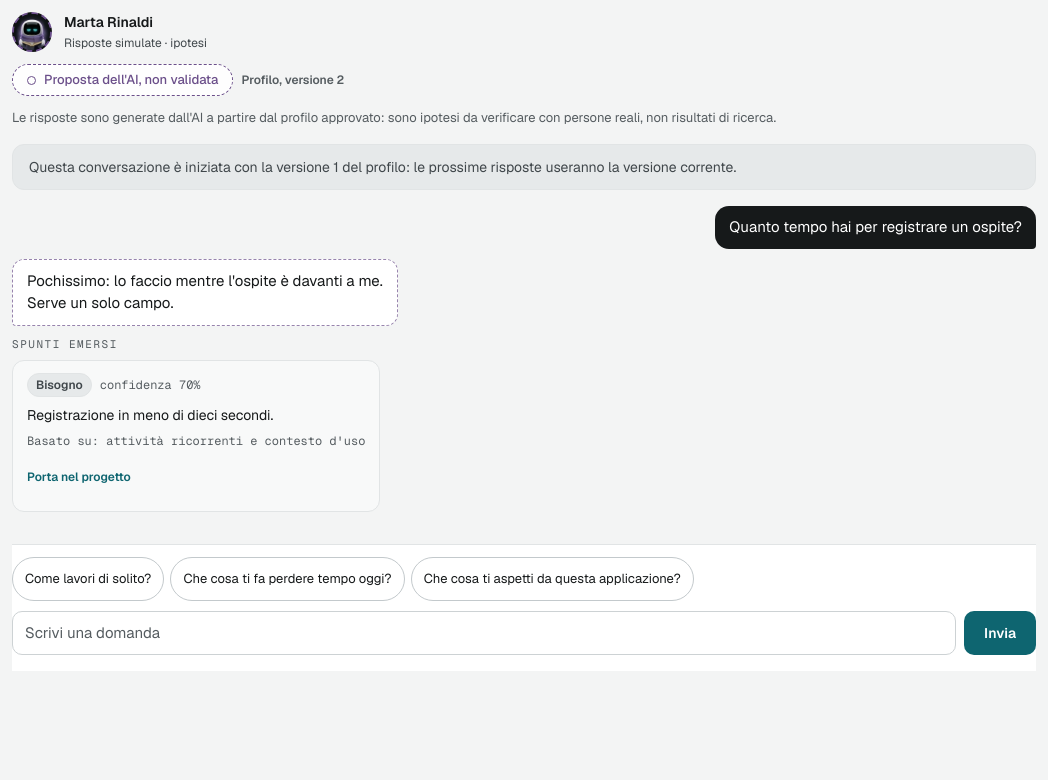
Test: twin chat panel › starts a new conversation with the new version of the twin at the first question
Check: the text with test id "twin-chat-stale" shows "versione 1", box [29,158,736,176]
Check: the list item with test id "twin-chat-turn" shows "Quanto tempo hai per registrare un ospite?", box [729,217,1022,236]
Type "E adesso?" into the text box with test id "twin-chat-question" at x=484, y=633, box [12,610,956,655]
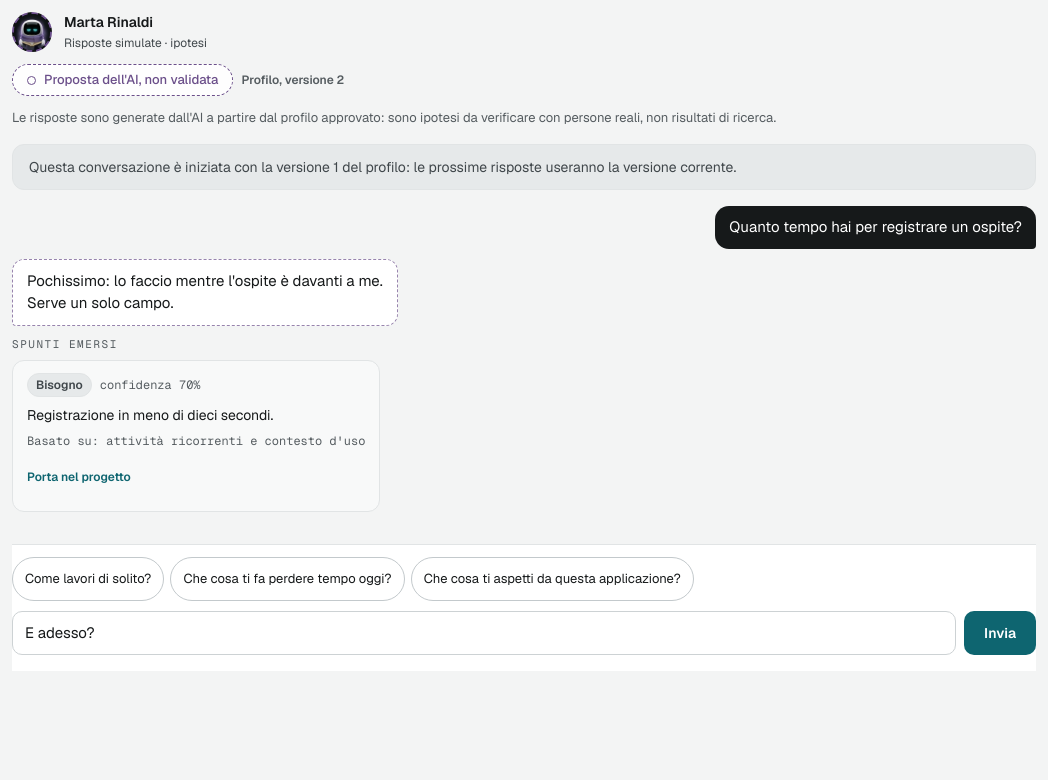
Submit the form
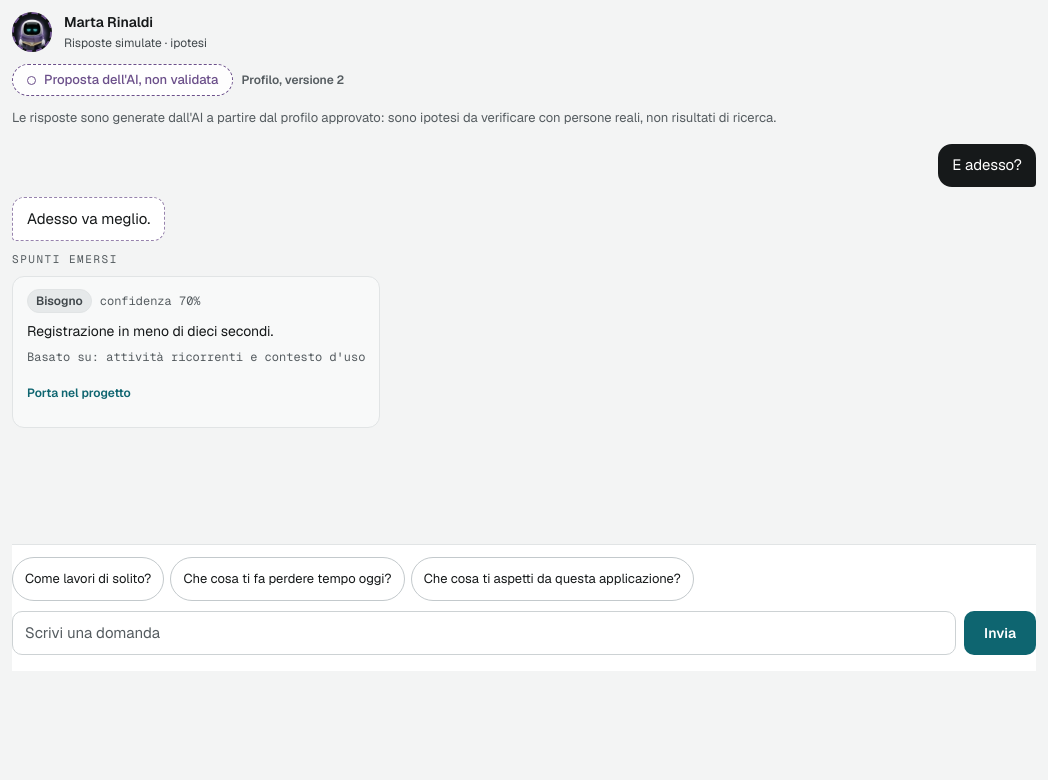
Check: the number of list items with test id "twin-chat-turn" is 1, box [12,144,1036,428]
Check: the list item with test id "twin-chat-turn" shows "Adesso va meglio.", box [27,208,150,228]
